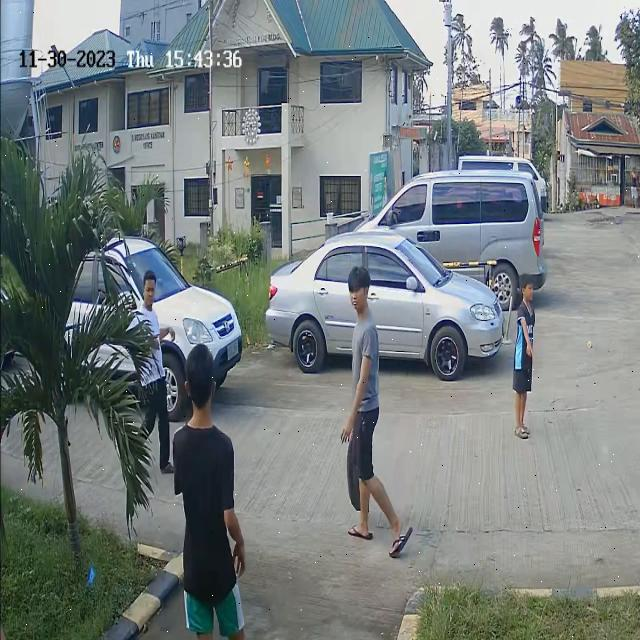human: (341, 258, 416, 562), (174, 347, 246, 636), (135, 268, 177, 500), (512, 273, 537, 439)
